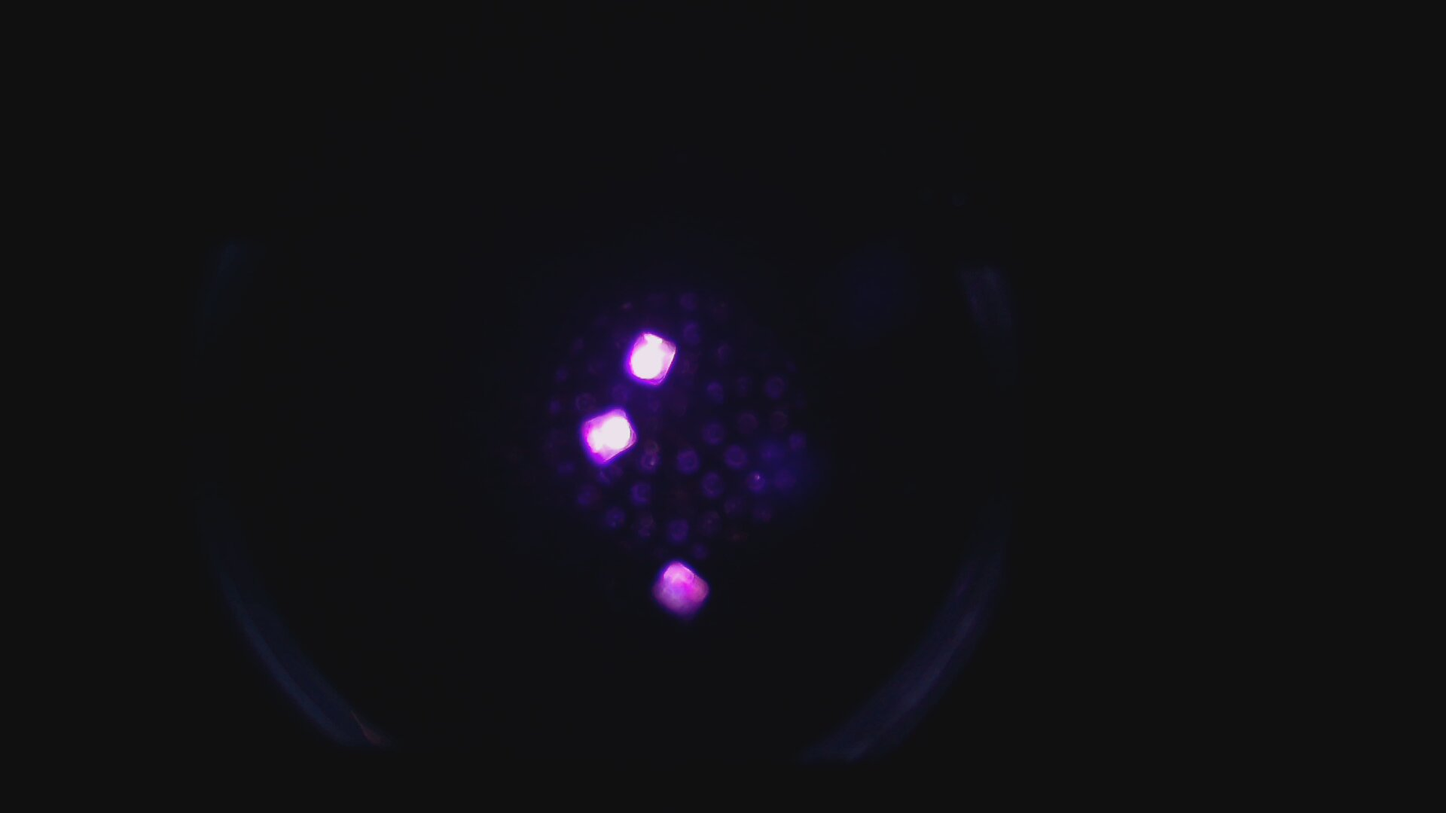plastic: (649, 558, 715, 621), (578, 405, 641, 465), (623, 328, 680, 388)
